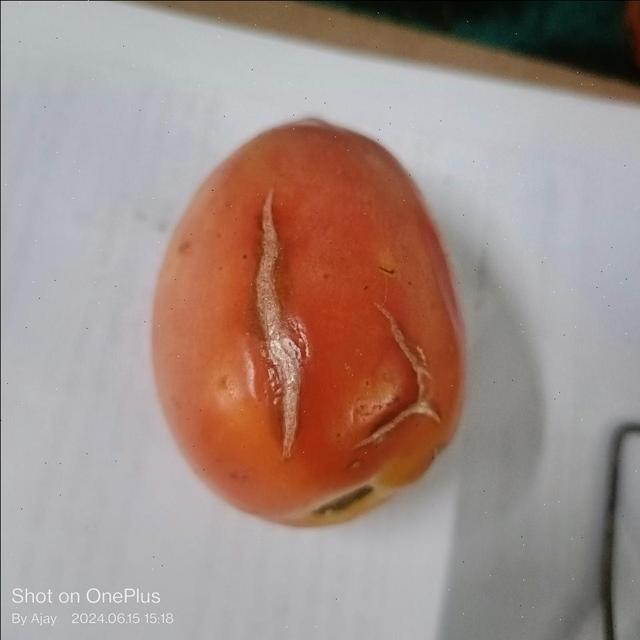Cracking Fruit: (192, 195, 295, 304)
